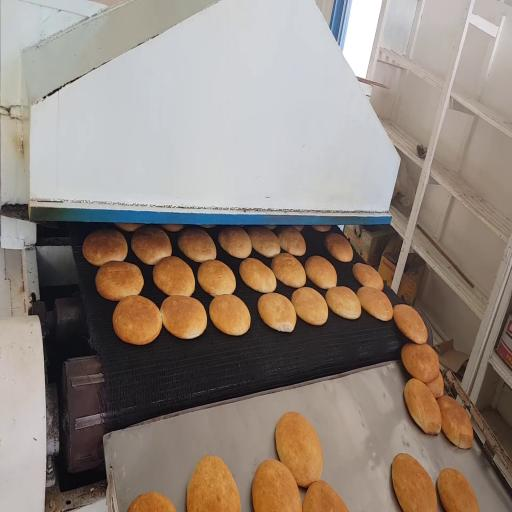bread: (276, 412, 322, 487), (187, 456, 240, 511), (252, 459, 302, 511), (392, 454, 437, 511), (113, 296, 162, 345), (404, 379, 441, 434), (161, 295, 207, 339), (96, 262, 143, 301), (438, 396, 473, 448), (438, 469, 479, 511), (153, 256, 195, 296), (210, 295, 250, 335), (83, 230, 127, 266), (131, 226, 171, 265), (401, 343, 439, 383), (258, 293, 296, 332), (292, 287, 328, 325), (303, 481, 348, 511), (198, 260, 235, 296), (394, 304, 427, 344), (178, 228, 216, 262), (239, 258, 276, 292), (271, 253, 306, 288), (357, 287, 393, 321), (326, 287, 361, 319), (305, 256, 337, 289), (218, 227, 251, 258), (248, 227, 280, 257), (128, 492, 176, 511), (325, 233, 353, 262), (353, 263, 383, 290), (278, 227, 306, 255), (426, 372, 443, 398), (115, 223, 143, 232), (160, 224, 183, 232), (312, 225, 330, 232), (265, 225, 276, 230), (294, 225, 303, 231), (201, 225, 216, 228)
